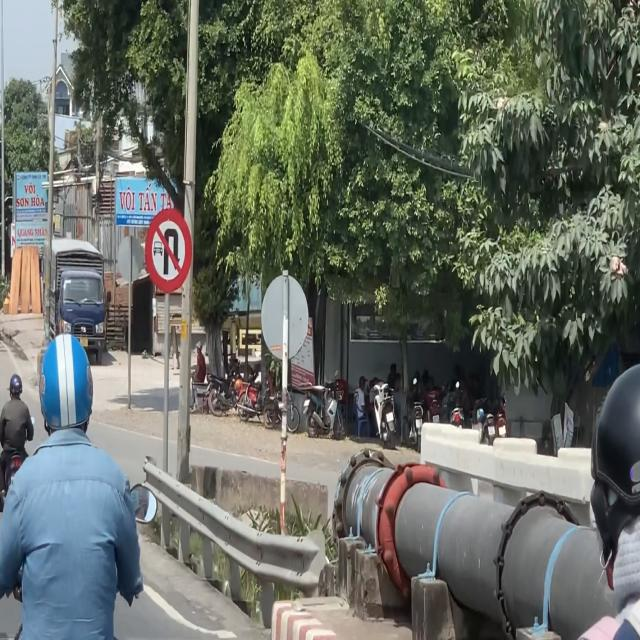Cam quay dau xe: (143, 205, 195, 298)
